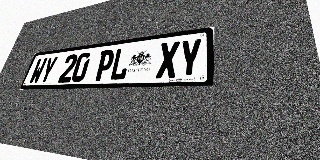0: (70, 52, 92, 82)
2: (58, 54, 79, 83)
L: (109, 47, 132, 81)
P: (93, 49, 116, 81)
W: (28, 58, 48, 84)
X: (155, 41, 180, 79)
Y: (177, 38, 202, 78), (38, 56, 58, 84)
